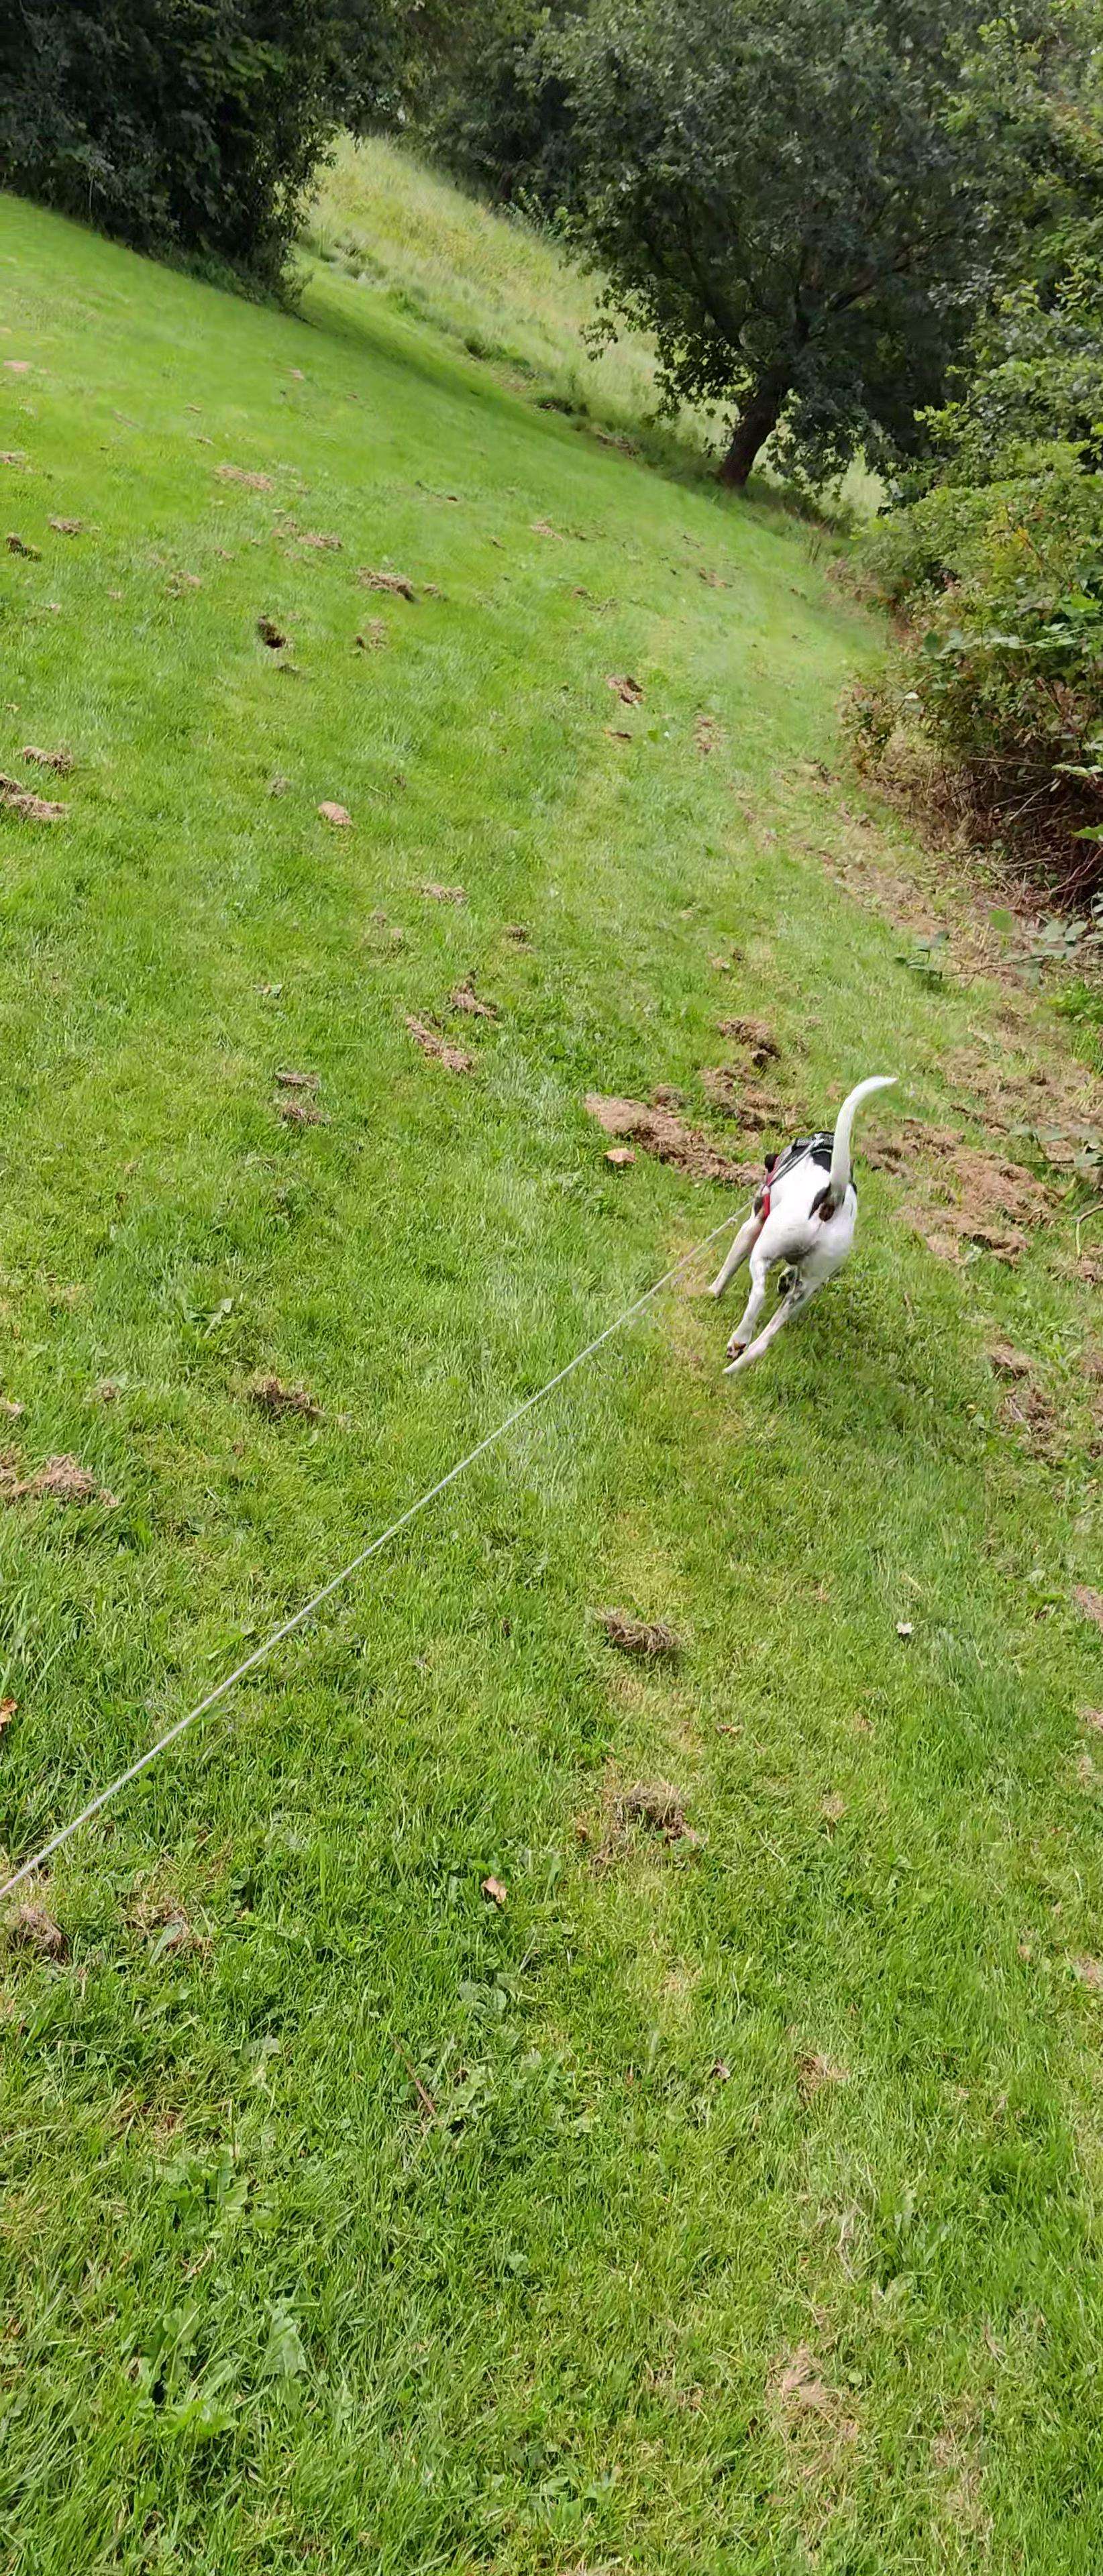Dog: (702, 1065, 902, 1385)
